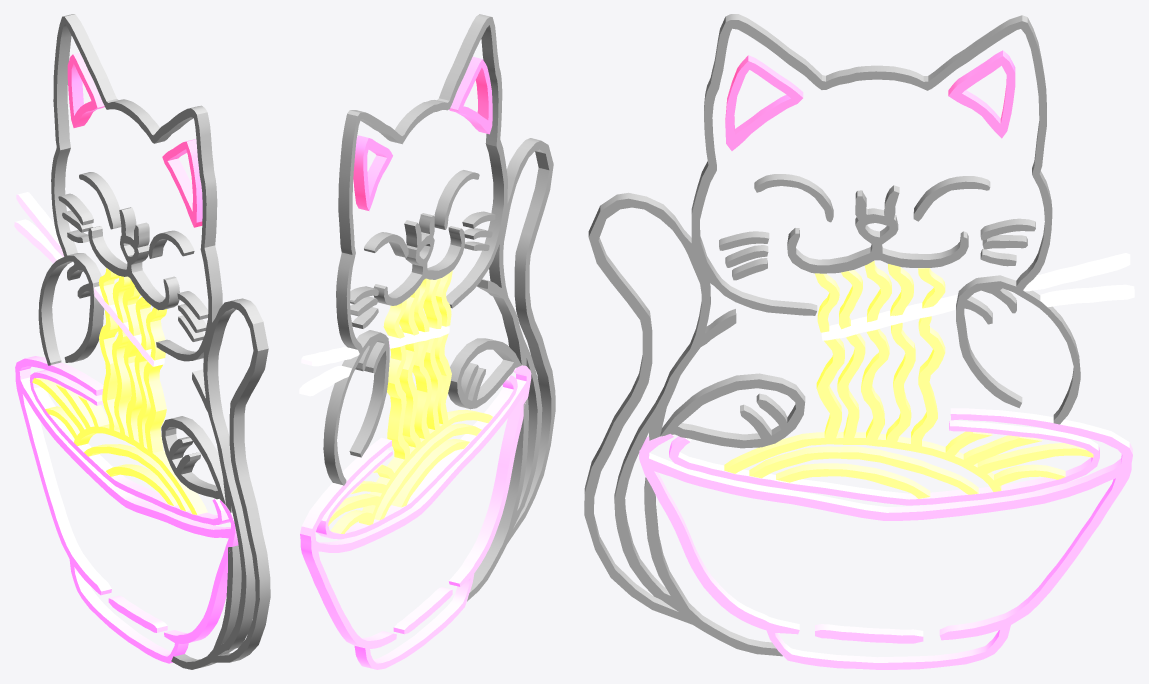
File: CatNeonSign.fbx
3 views of the same model, side by side, from view 1: azimuth 30°, elevation 25°; view 2: azimuth 150°, elevation 25°; view 3: azimuth 270°, elevation 25° (orthographic). The views are drawn at different scales.
Parts seen in each view (by area): view 1: Plane; view 2: Plane; view 3: Plane.
Part boxes in pixels (bbox=[...]): Plane: bbox=[14, 14, 270, 669]; Plane: bbox=[299, 14, 555, 669]; Plane: bbox=[584, 14, 1134, 669].
Bounding box in the file's own units: 8.45 × 436 × 334.
